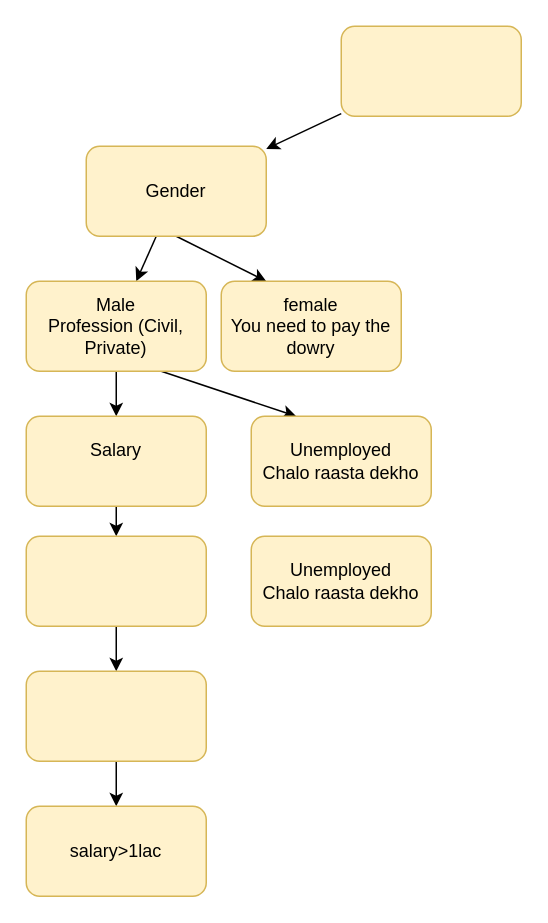
Some shapes in this 548 by 923 pixel diagram are drawn without their labels. The shapes that lost their labels are listed below. From the top down, each one's centre as x and y in pixels, then its label:
the point at 430,70: Age
the point at 115,580: salary>30k Statement
the point at 115,715: salary>60k statement
